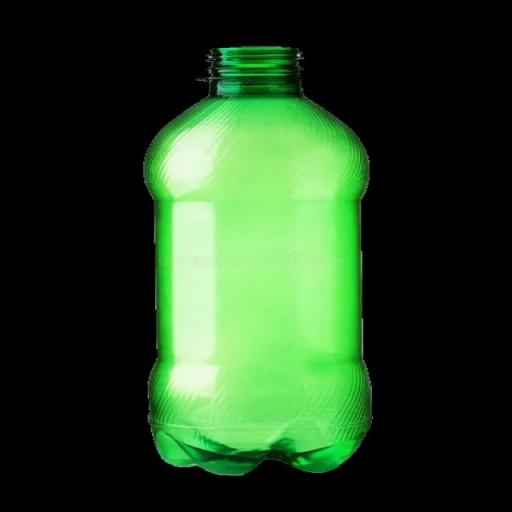plastic: (136, 43, 378, 477)
